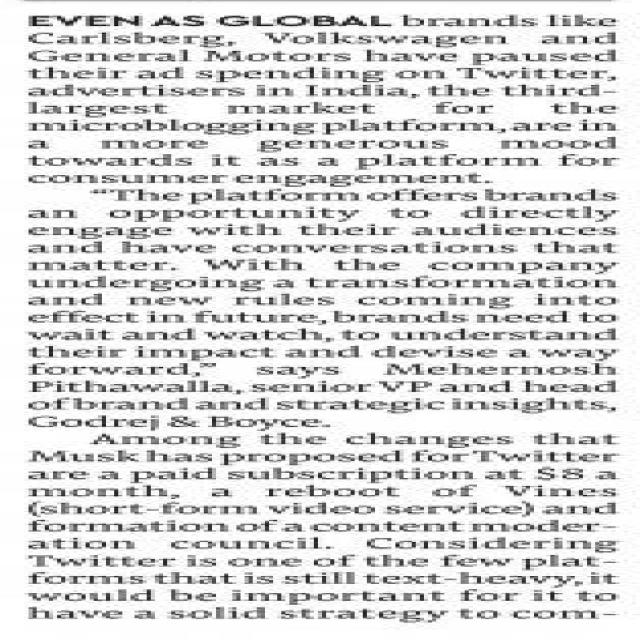paper: (4, 1, 640, 640)
